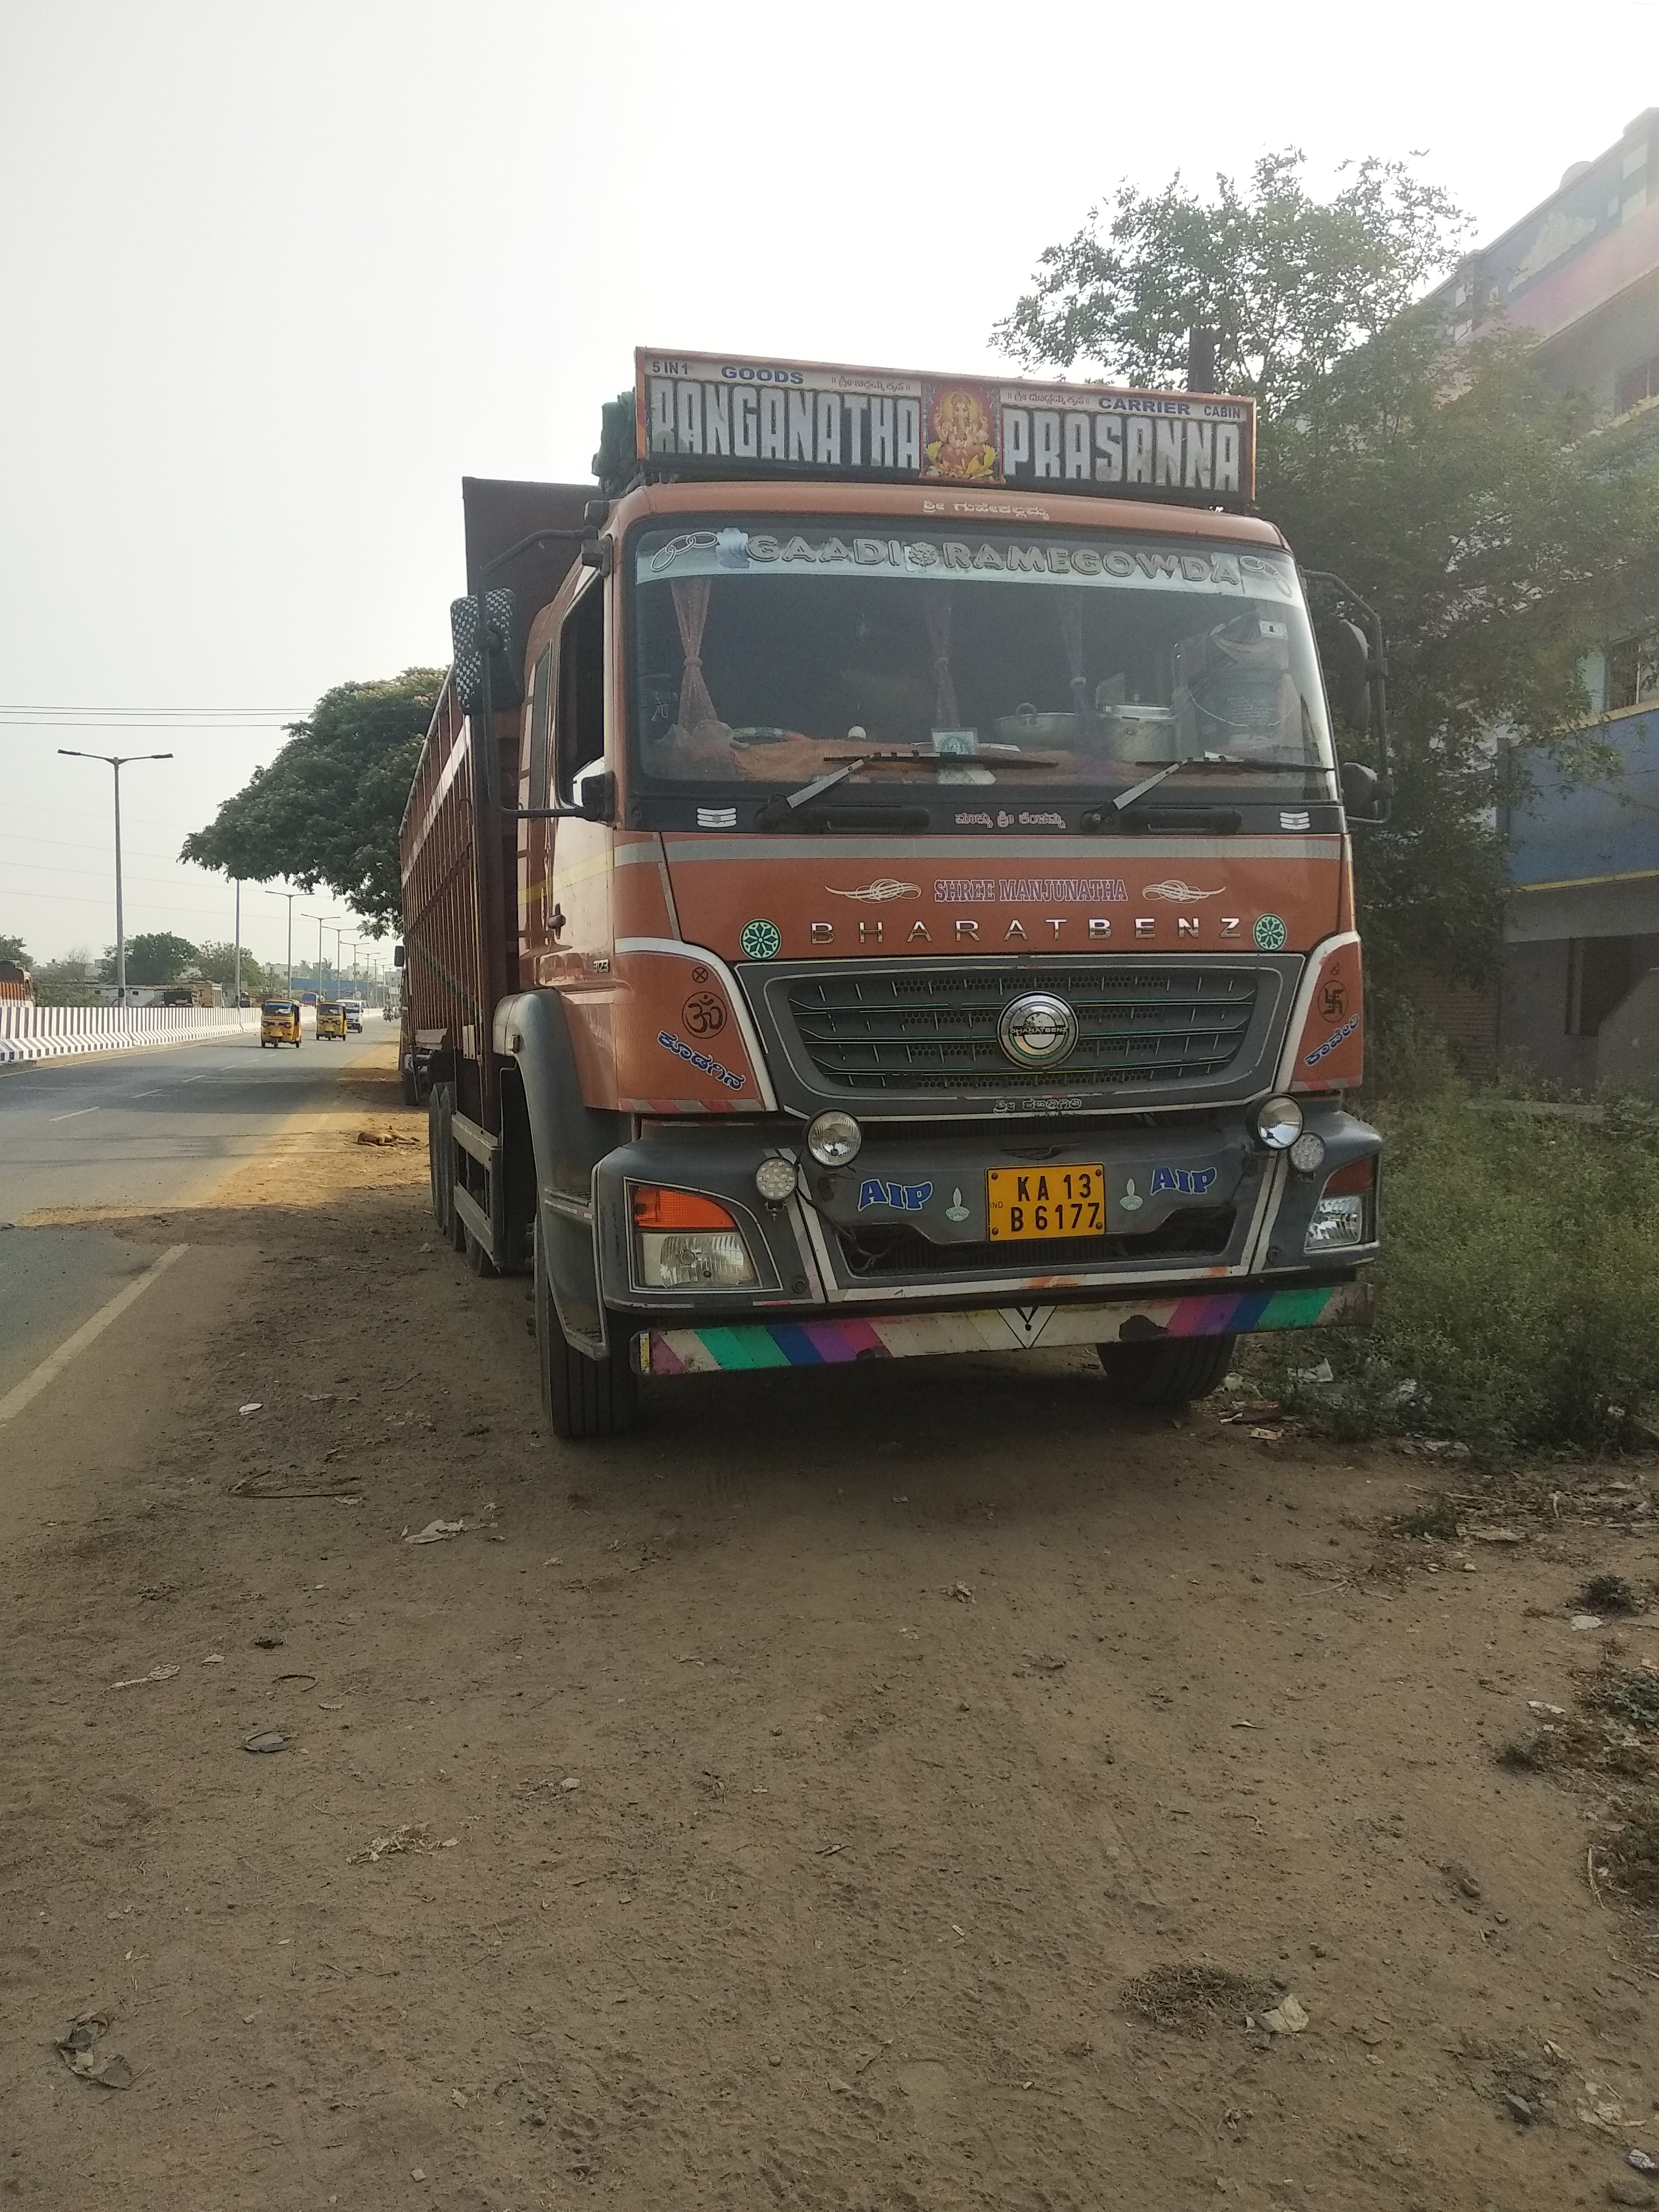truck: (396, 340, 1392, 1440)
